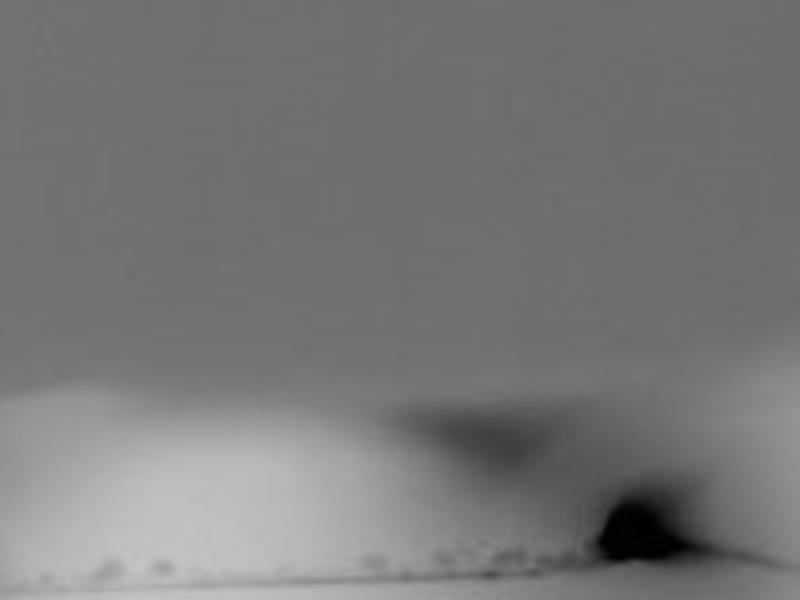defect: (598, 496, 688, 560)
